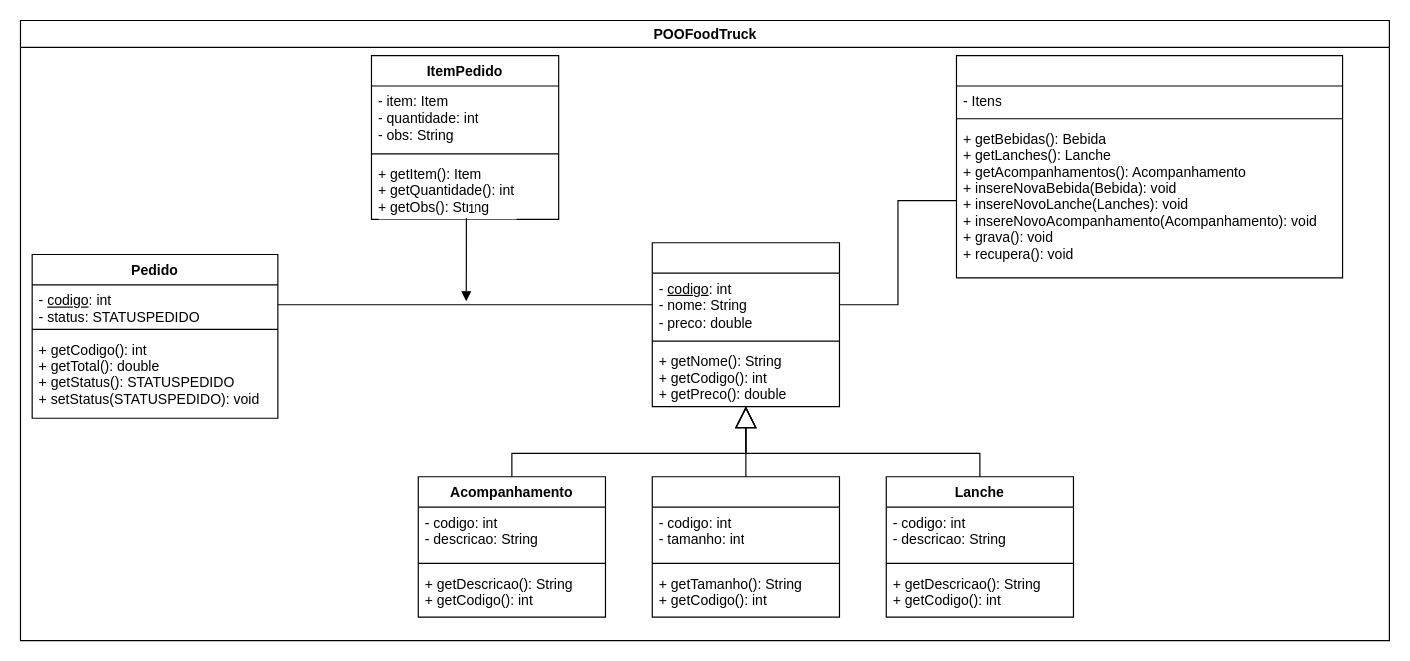
Image size: 1410x661. Some labels were removed from this diagram. The box of each missing label's shape, as (x1, y1, x2, y2) in pixels:
Bebida: (651, 476, 839, 617)
Cardapio: (955, 54, 1343, 278)
Item: (651, 242, 839, 407)
